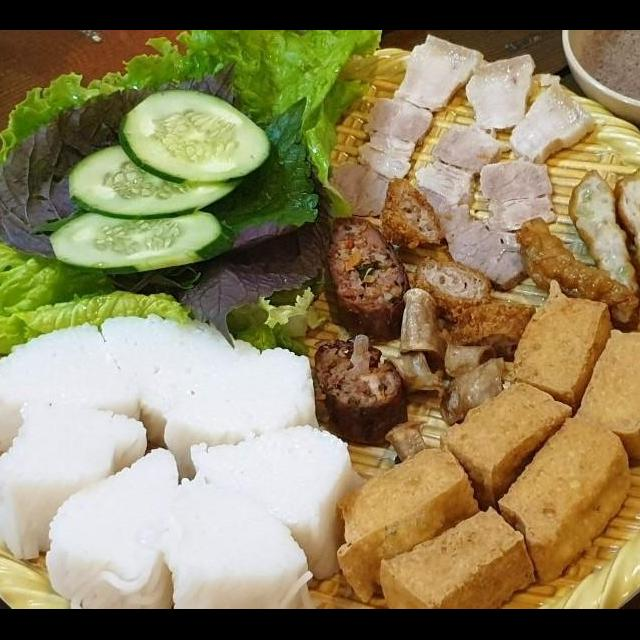bun: (0, 307, 370, 609), (438, 66, 598, 296), (318, 156, 394, 220)
bun dau: (0, 77, 640, 609)
cha com: (512, 215, 640, 327), (563, 166, 640, 335), (418, 286, 538, 352), (403, 248, 502, 320), (374, 172, 452, 260), (608, 165, 640, 338)
dau hu: (483, 408, 640, 587), (334, 444, 484, 608), (436, 376, 588, 516), (498, 268, 622, 421), (374, 500, 542, 610), (568, 317, 640, 469)
doi sun: (296, 324, 422, 454), (314, 212, 412, 342)
thit heo: (468, 70, 598, 238), (412, 120, 511, 226), (429, 202, 534, 294), (386, 32, 488, 118), (352, 94, 438, 184), (459, 51, 538, 136)
